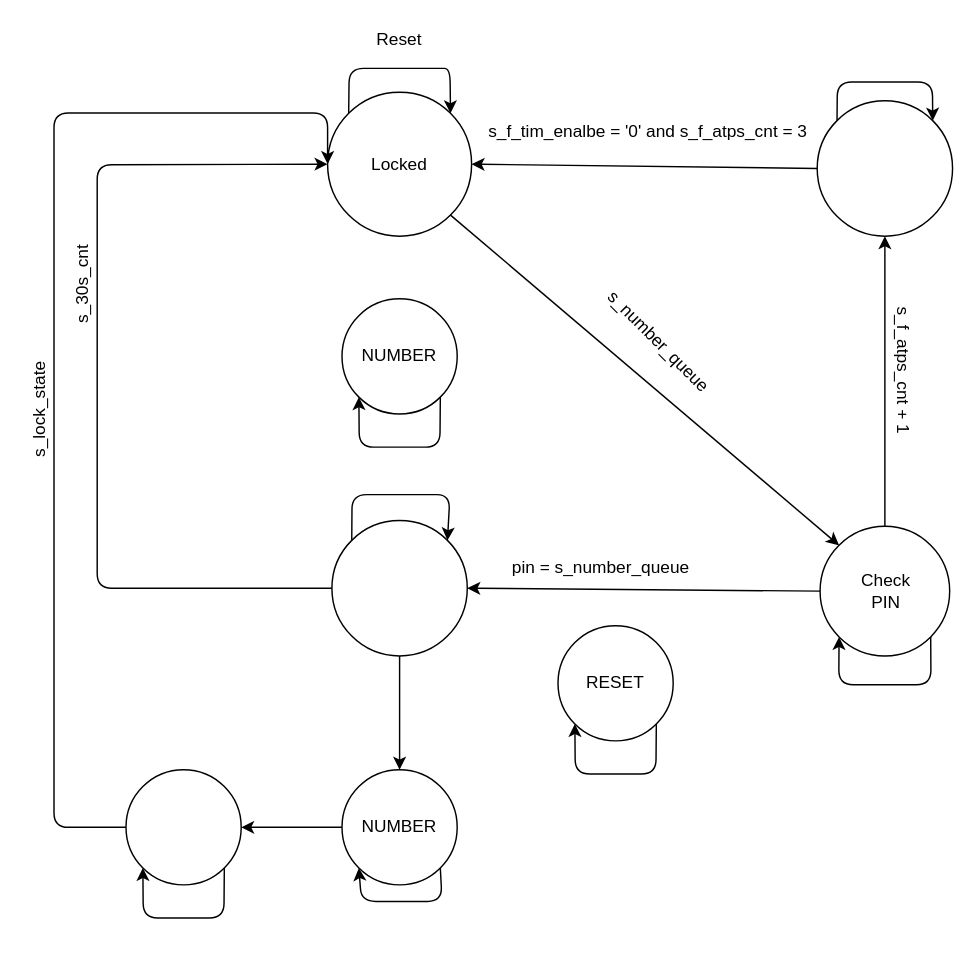
Some shapes in this 978 by 955 pixel diagram are drawn without their labels. The shapes that lost their labels are listed below. From the top down, each one's centre as x and y in pixels, then its label:
At point 884,167: "Failed".
At point 398,587: "Unlocked".
At point 183,826: "SET".
